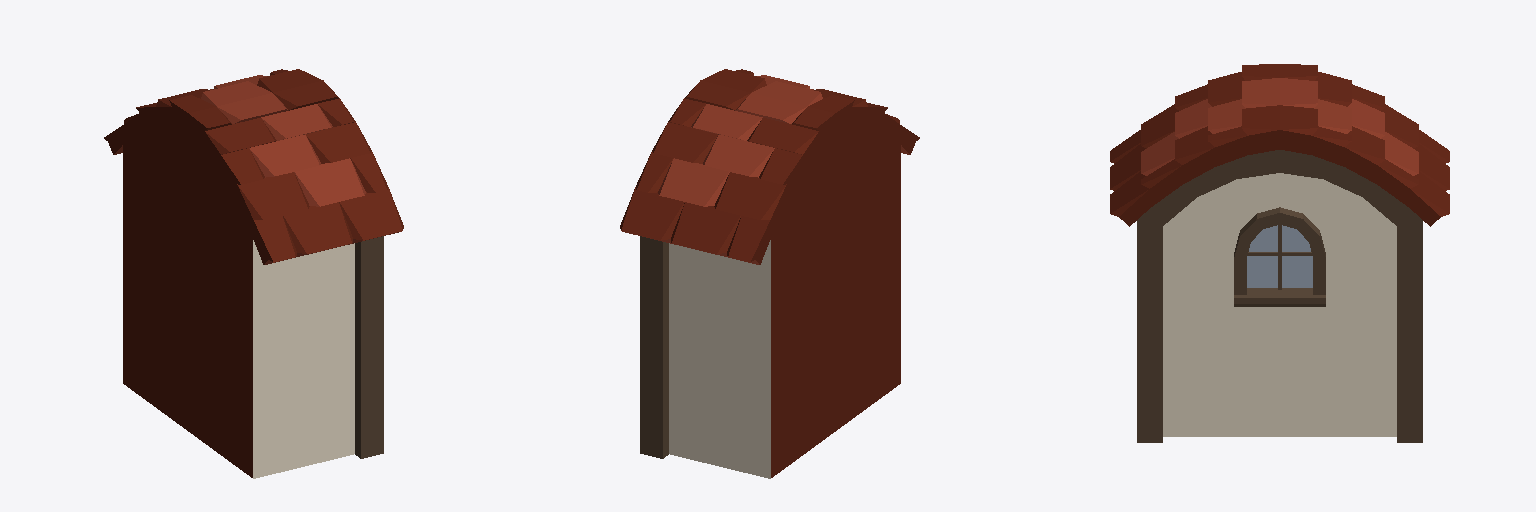
File: Kit_Window_Upper_Convex.obj
3 views of the same model, side by side, from view 1: azimuth 30°, elevation 25°; view 2: azimuth 150°, elevation 25°; view 3: azimuth 270°, elevation 25° (orthographic).
Visible parts, largest first — view 1: object4, object2; view 2: object4, object2; view 3: object4, object2, object3.
Part boxes in pixels (x1,y1,x2,y2): object4: (104,69,403,478); object2: (355,236,383,458); object4: (620,69,919,478); object2: (640,236,668,458); object4: (1110,64,1449,436); object2: (1137,150,1422,442); object3: (1234,207,1325,306).
Size of the model in its own units: 1.2 by 2.7 by 2.62.